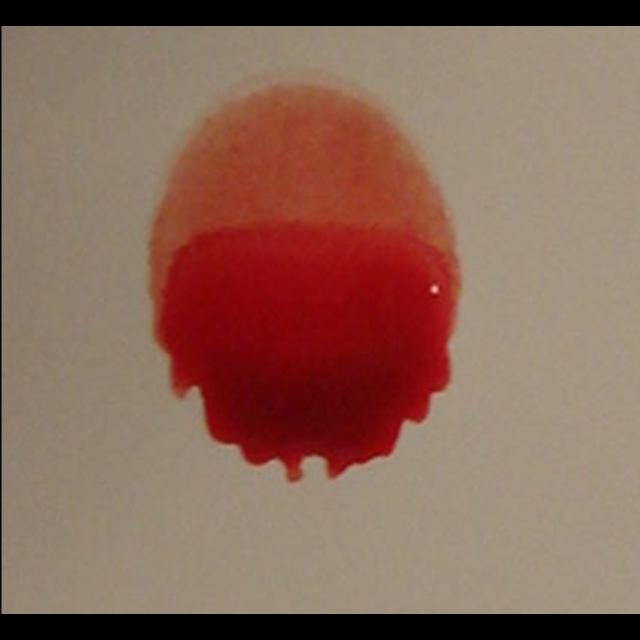blood: (147, 81, 458, 482)
